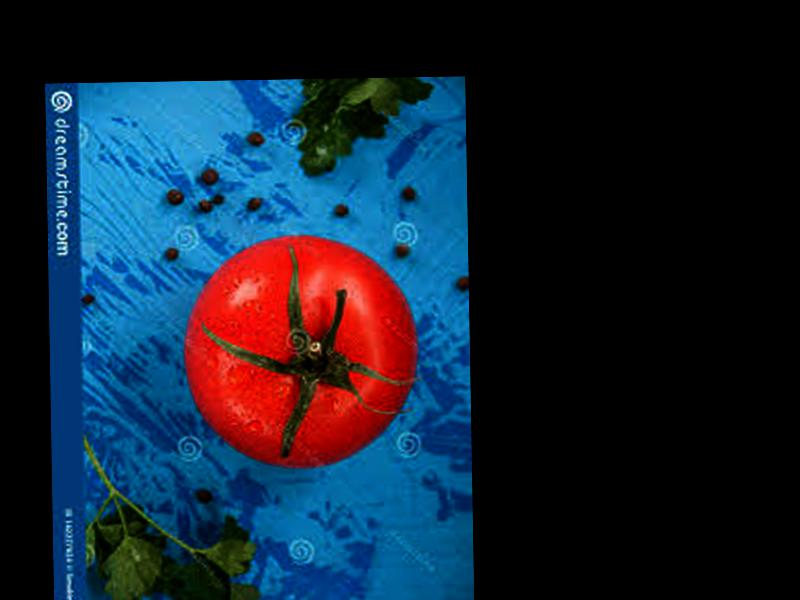Tomato: (182, 234, 418, 470)
